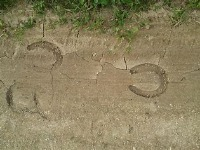animal_footprint: (6, 82, 45, 117), (128, 63, 167, 97), (27, 41, 62, 68)
